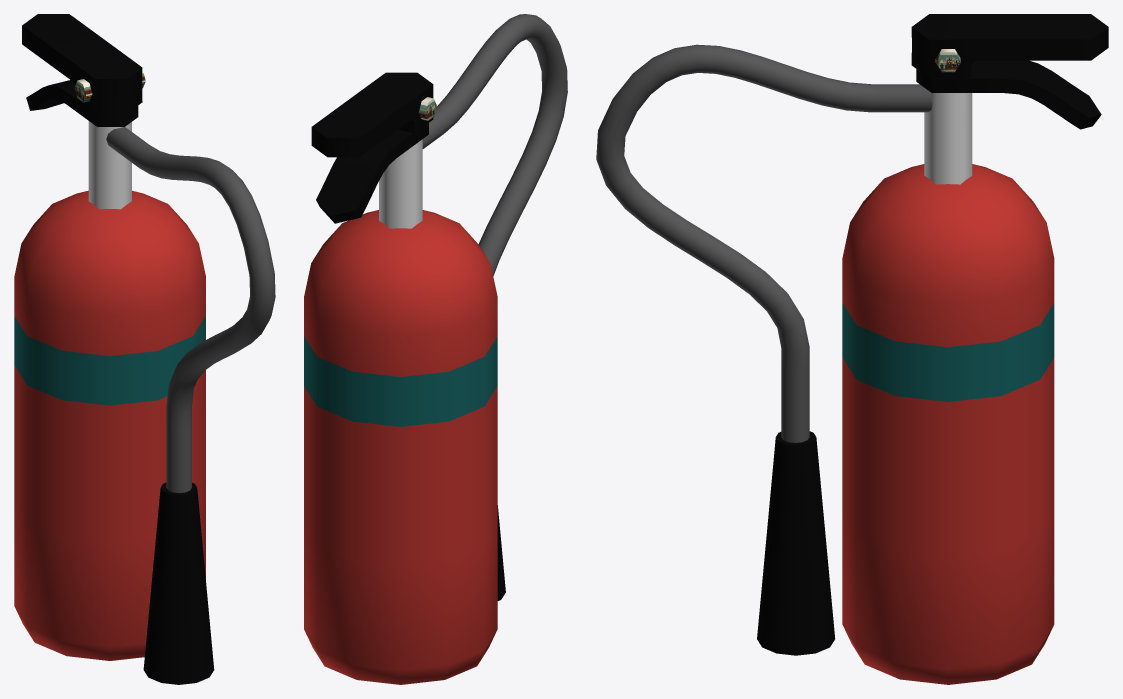
File: FireExtinguisher.fbx
The picture shows the model from 3 angles, left to right: view 1: azimuth 30°, elevation 25°; view 2: azimuth 150°, elevation 25°; view 3: azimuth 270°, elevation 25°; orthographic projection. The views are drawn at different scales.
Visible parts, largest first — view 1: Extinguisher; view 2: Extinguisher; view 3: Extinguisher.
Boxes of the visible parts, x1,y1,x2,y2 form: Extinguisher: [14, 14, 275, 684]; Extinguisher: [304, 14, 567, 684]; Extinguisher: [596, 14, 1108, 684].
Size of the model in its own units: 0.3 by 0.9765 by 0.7249.
